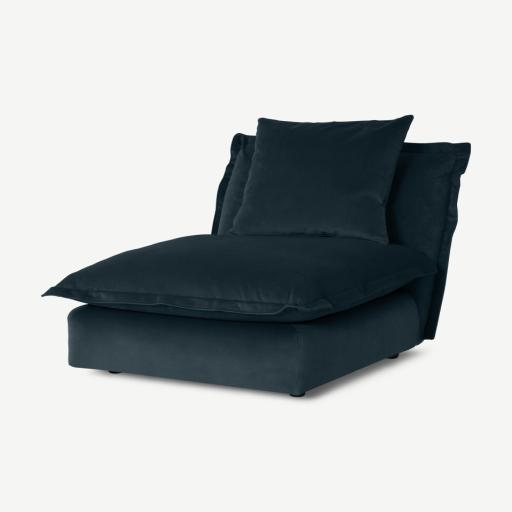back_cushion: (228, 128, 389, 246)
base: (114, 294, 420, 383)
left_arm: (360, 163, 469, 337)
one-seater: (0, 0, 511, 512)
seat_cushion: (97, 237, 436, 320)
